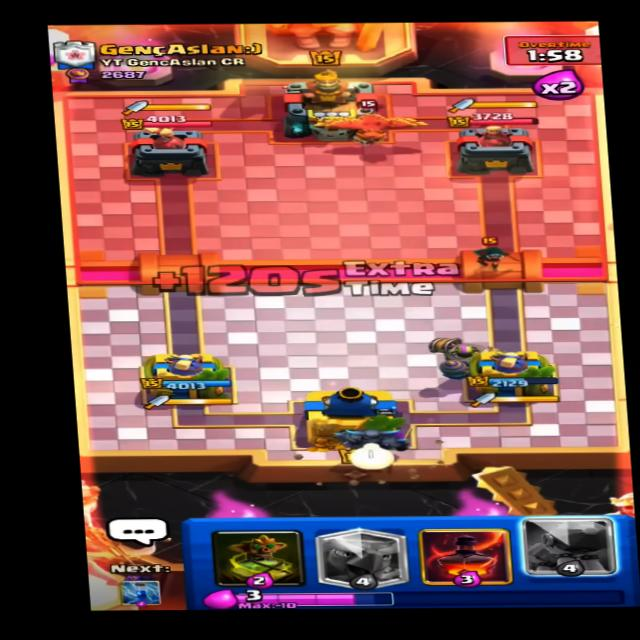bandit: (470, 233, 525, 271)
phoenix: (308, 94, 423, 145)
